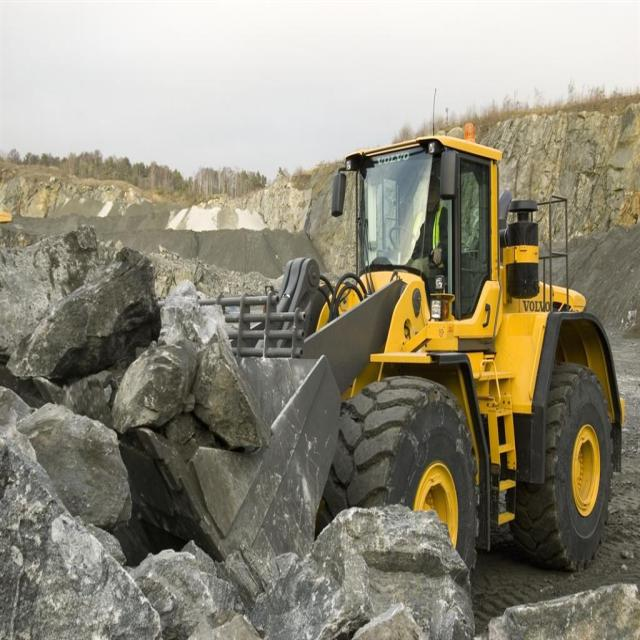buldozerpayloadergrader: (208, 113, 625, 592)
